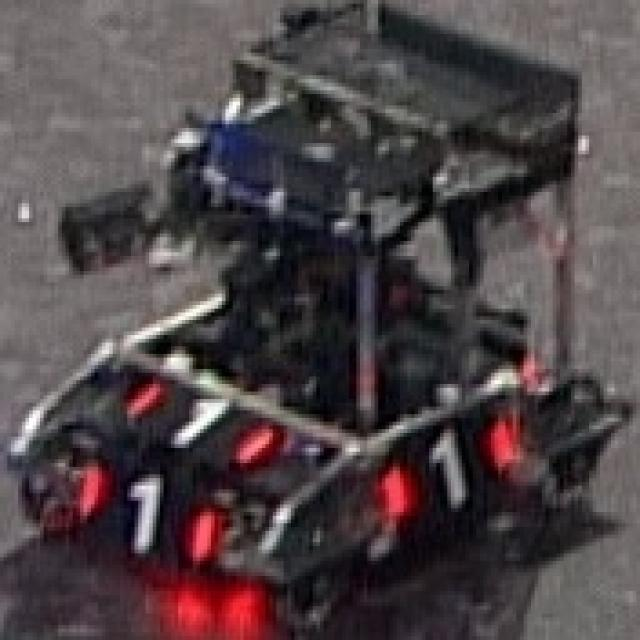R1: (72, 463, 214, 565), (378, 418, 516, 519), (120, 377, 273, 463)
